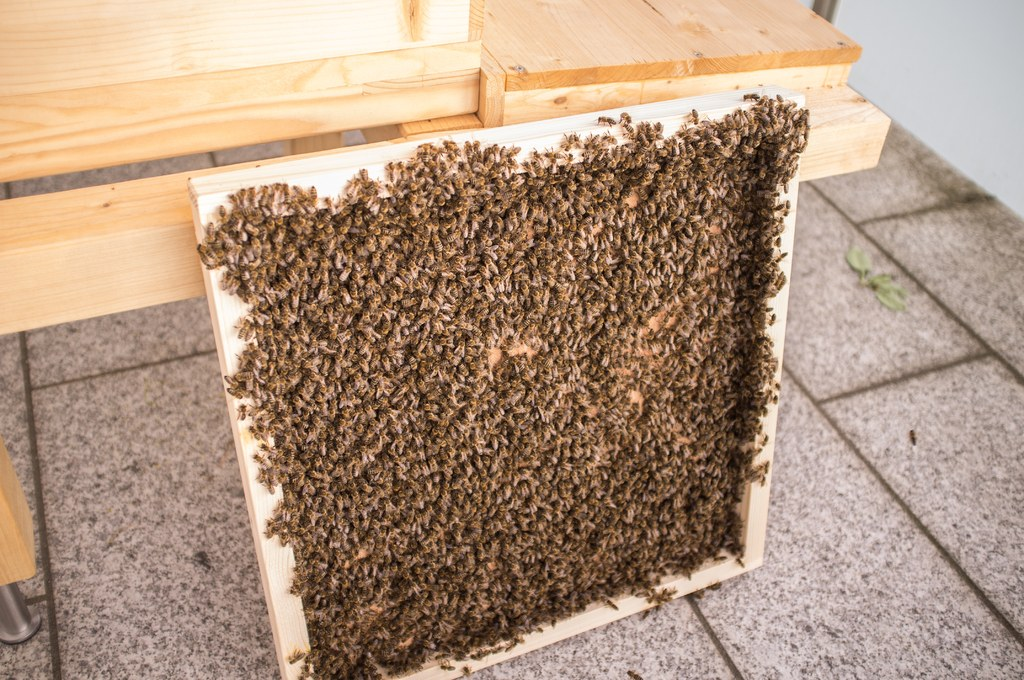bee: (186, 83, 806, 679), (274, 474, 559, 679), (329, 264, 514, 496), (526, 446, 769, 622), (514, 277, 665, 492), (287, 160, 447, 349), (611, 136, 801, 295), (645, 285, 785, 489), (449, 161, 618, 316), (221, 222, 341, 408), (253, 328, 341, 501), (215, 368, 266, 426), (413, 138, 435, 161), (283, 645, 305, 665), (241, 218, 259, 238), (688, 102, 701, 128), (672, 124, 696, 138), (420, 290, 435, 312), (444, 135, 458, 158), (529, 158, 545, 178), (291, 184, 308, 202), (793, 107, 810, 125), (596, 115, 619, 128), (281, 180, 292, 207), (468, 284, 482, 305), (562, 154, 578, 172), (423, 160, 440, 176), (466, 321, 483, 337), (470, 158, 487, 174), (516, 159, 533, 175), (207, 225, 222, 243), (362, 180, 377, 198), (529, 147, 545, 163), (584, 132, 600, 148), (227, 190, 239, 211), (357, 164, 369, 185), (347, 177, 360, 196), (518, 332, 533, 348), (601, 131, 618, 145), (333, 201, 351, 214), (512, 307, 525, 325), (307, 184, 318, 205), (234, 247, 244, 270), (508, 251, 520, 270), (537, 355, 552, 370), (228, 236, 242, 252), (467, 271, 483, 285), (386, 159, 396, 181), (744, 93, 764, 104), (200, 245, 218, 257), (223, 214, 235, 232), (491, 143, 503, 161), (517, 280, 529, 298), (259, 184, 269, 205), (390, 185, 404, 200), (532, 266, 542, 287), (444, 230, 463, 241), (507, 287, 518, 306), (417, 164, 433, 177), (517, 197, 529, 214), (221, 271, 232, 289), (511, 270, 529, 281), (546, 157, 559, 172), (564, 134, 576, 150), (755, 112, 771, 124), (785, 125, 797, 141), (247, 186, 257, 205), (437, 279, 447, 298), (486, 256, 496, 275), (218, 202, 227, 223), (291, 196, 302, 213), (452, 340, 463, 357), (624, 668, 641, 679), (327, 193, 335, 216), (509, 207, 517, 230), (495, 158, 508, 172), (509, 259, 522, 273), (790, 108, 803, 122), (243, 241, 252, 261), (484, 320, 496, 335), (230, 220, 241, 236), (273, 182, 281, 204), (500, 269, 511, 285), (760, 124, 769, 143), (271, 231, 281, 248), (236, 403, 248, 417), (246, 206, 260, 218), (305, 201, 317, 215), (596, 134, 608, 148), (780, 120, 792, 134), (206, 259, 221, 270), (507, 145, 522, 156), (778, 142, 793, 153), (222, 232, 231, 250), (230, 278, 239, 296), (500, 319, 509, 337), (767, 97, 776, 115), (426, 138, 436, 154), (465, 138, 473, 158), (527, 204, 537, 220), (247, 258, 260, 270), (483, 147, 495, 160), (700, 125, 713, 137), (399, 160, 406, 182), (477, 295, 488, 309), (543, 260, 557, 271), (242, 205, 259, 214), (293, 219, 302, 236), (911, 427, 920, 444), (206, 222, 214, 241), (231, 250, 239, 269), (547, 276, 557, 291), (573, 132, 583, 147), (739, 108, 749, 123), (438, 661, 454, 670), (496, 359, 508, 371), (506, 156, 515, 172), (712, 120, 724, 132), (755, 116, 764, 132), (780, 101, 798, 109), (241, 269, 251, 283), (301, 212, 308, 232), (492, 306, 502, 320), (687, 137, 694, 157), (492, 273, 500, 290), (532, 289, 540, 306), (546, 148, 563, 156), (484, 280, 493, 295), (280, 209, 287, 228), (637, 135, 648, 147), (640, 607, 652, 618), (776, 109, 788, 120), (793, 138, 804, 150), (797, 140, 807, 153), (460, 222, 468, 238), (647, 134, 663, 142), (408, 156, 417, 170), (473, 138, 482, 152), (484, 154, 493, 168), (533, 336, 542, 350), (726, 115, 735, 129), (769, 134, 780, 145), (252, 215, 264, 225), (266, 523, 274, 538), (280, 229, 286, 249), (614, 145, 622, 160), (618, 113, 630, 123), (623, 120, 633, 132), (678, 141, 688, 153), (743, 111, 753, 123), (788, 106, 798, 118), (253, 238, 260, 255), (500, 146, 507, 163), (751, 106, 768, 113), (470, 152, 483, 161), (710, 132, 719, 145), (201, 248, 209, 262), (499, 256, 507, 270), (545, 319, 552, 335), (771, 122, 778, 138), (490, 296, 500, 307), (653, 122, 663, 133), (724, 136, 733, 148), (708, 583, 723, 590), (735, 109, 742, 124), (583, 148, 596, 156), (428, 150, 438, 160), (437, 146, 447, 156), (461, 667, 470, 678), (509, 355, 518, 366), (399, 175, 406, 189), (623, 142, 637, 149), (637, 120, 644, 134), (702, 118, 716, 125), (771, 113, 778, 127), (440, 158, 448, 170), (794, 128, 802, 140), (273, 211, 280, 224), (504, 306, 511, 319), (216, 252, 225, 262), (241, 188, 246, 206), (269, 219, 275, 234), (804, 116, 810, 131), (449, 284, 456, 296), (622, 131, 636, 137), (609, 598, 618, 607), (692, 590, 707, 595), (263, 204, 269, 216), (263, 229, 268, 243), (502, 289, 506, 306), (451, 143, 454, 164), (524, 353, 531, 362), (226, 249, 230, 264), (780, 98, 790, 104), (802, 128, 806, 142), (643, 123, 647, 136), (776, 94, 782, 102), (500, 279, 502, 294)
insect: (195, 118, 803, 679)
